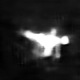plane: (17, 25, 72, 60)
